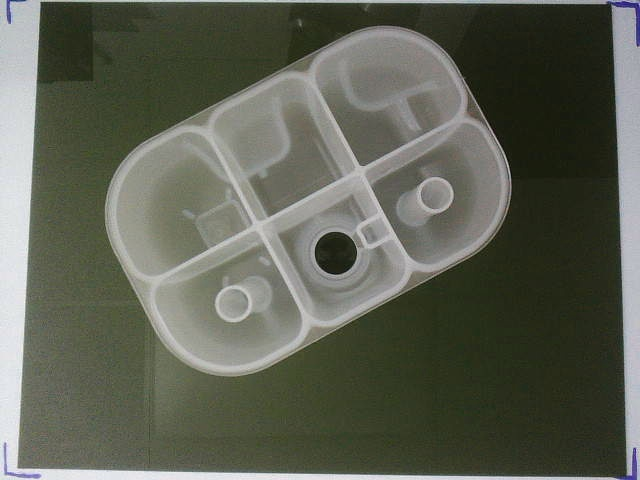reservoir_transparent_Under: (103, 26, 511, 377)
